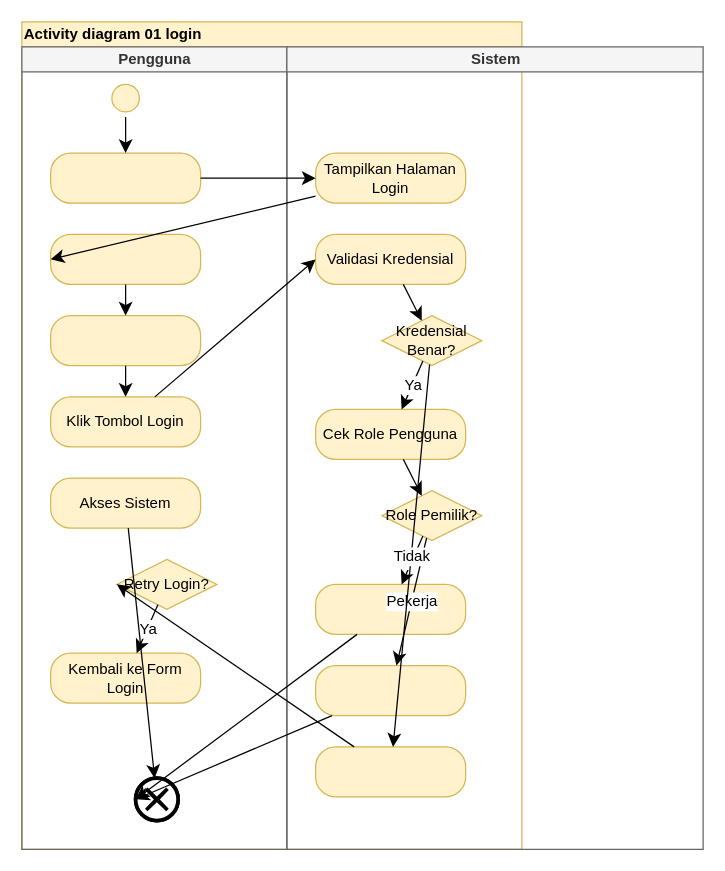
This 725x871 diagram has some shape labels left out. The centre of each missing label's shape, as x and y in pixels:
"Buka Aplikasi" goes at (125,177).
"Input Email/Username" goes at (125,258).
"Input Password" goes at (125,340).
"Tampilkan Dashboard Pekerja" goes at (390,690).
"Tampilkan Dashboard Pemilik" goes at (390,608).
"Tampilkan Pesan Error" goes at (390,771).
